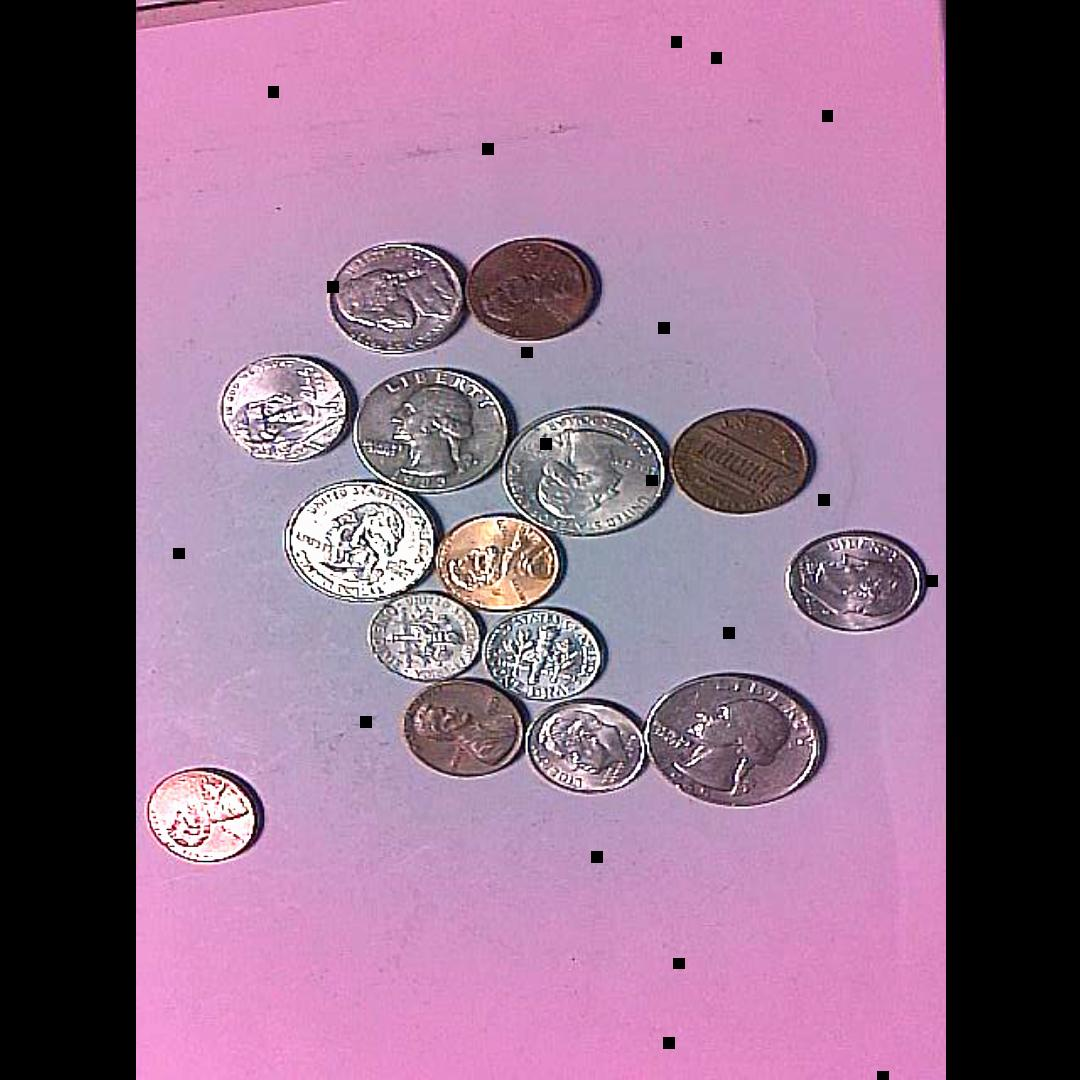Dime: (783, 525, 928, 638), (526, 697, 650, 800), (486, 604, 604, 709), (368, 586, 479, 678)
Nickel: (324, 238, 471, 351), (214, 351, 353, 462)
Penny: (667, 407, 817, 516), (467, 238, 599, 344), (398, 677, 530, 781), (138, 764, 265, 869), (434, 513, 562, 614)
Quarter: (648, 670, 829, 810), (500, 403, 673, 540), (351, 366, 515, 493), (280, 476, 435, 601)
